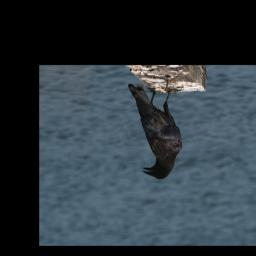Crow: (128, 81, 182, 180)
